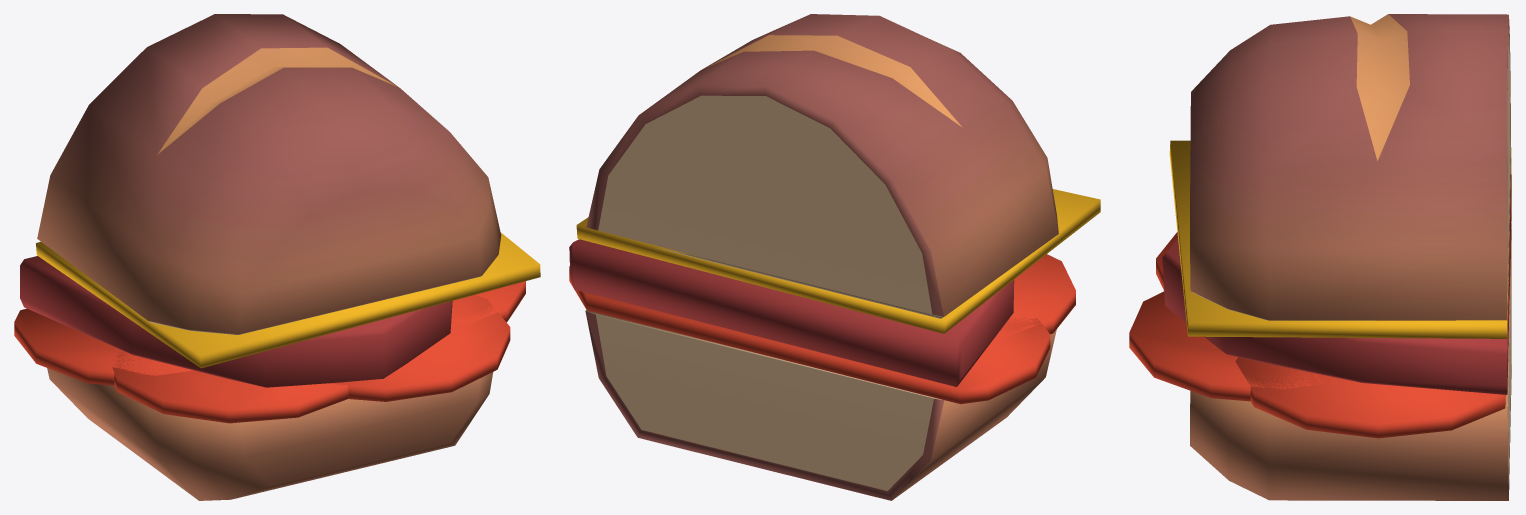
File: Subway Sandwich Half.fbx
The picture shows the model from 3 angles, left to right: view 1: azimuth 30°, elevation 25°; view 2: azimuth 150°, elevation 25°; view 3: azimuth 270°, elevation 25°; orthographic projection. The views are drawn at different scales.
Parts seen in each view (by area): view 1: Subway Sandwich Half; view 2: Subway Sandwich Half; view 3: Subway Sandwich Half.
Part boxes in pixels (x1,y1,x2,y2): Subway Sandwich Half: [14, 14, 540, 500]; Subway Sandwich Half: [569, 14, 1100, 500]; Subway Sandwich Half: [1129, 14, 1511, 500].
Size of the model in its own units: 34.34 by 27.04 by 23.22.
